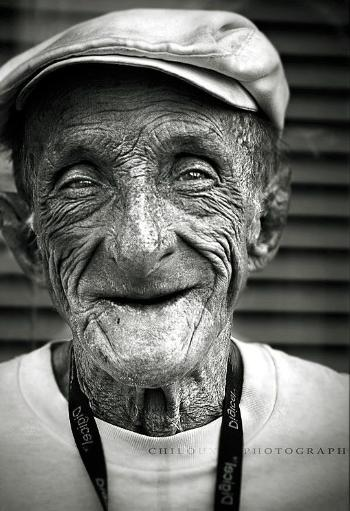left_eye: (177, 167, 220, 189)
left_lip_corner: (179, 280, 204, 306)
right_eye: (58, 176, 106, 198)
right_lip_corner: (92, 288, 122, 314)
